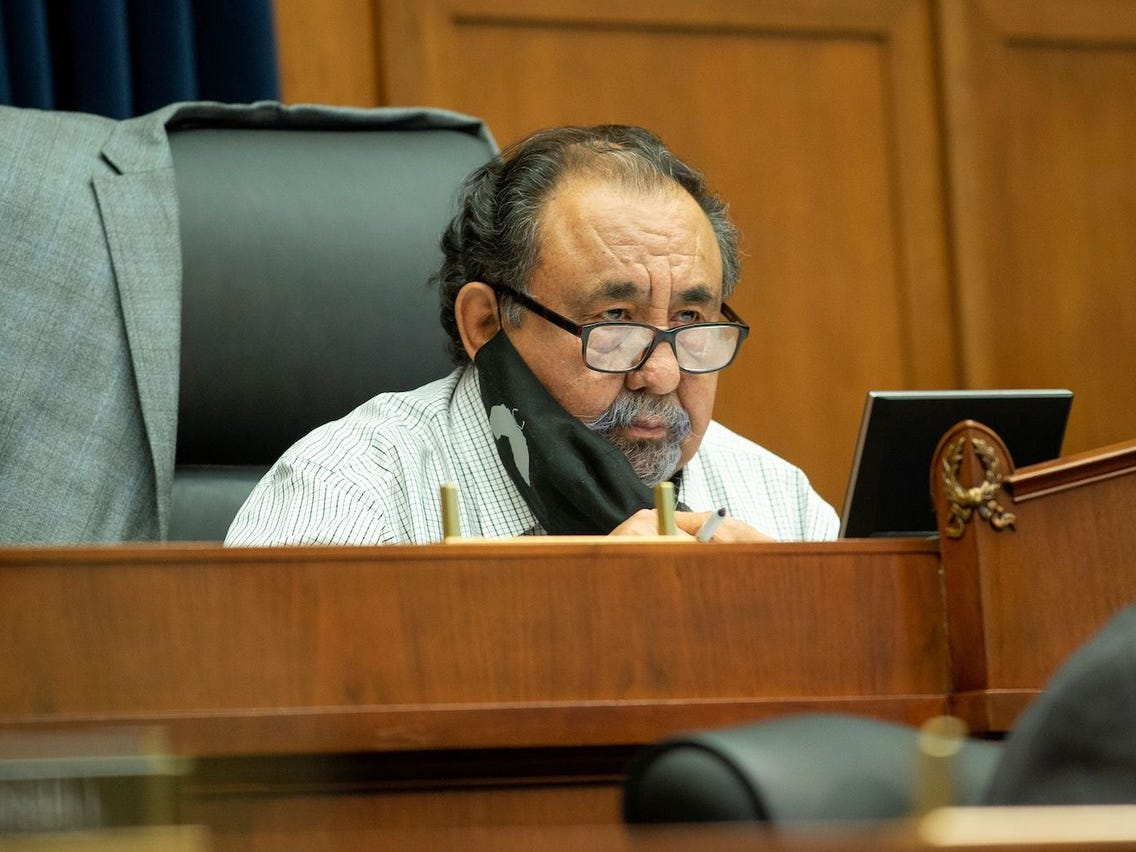mouth: (620, 418, 668, 440)
nose: (624, 369, 681, 398)
